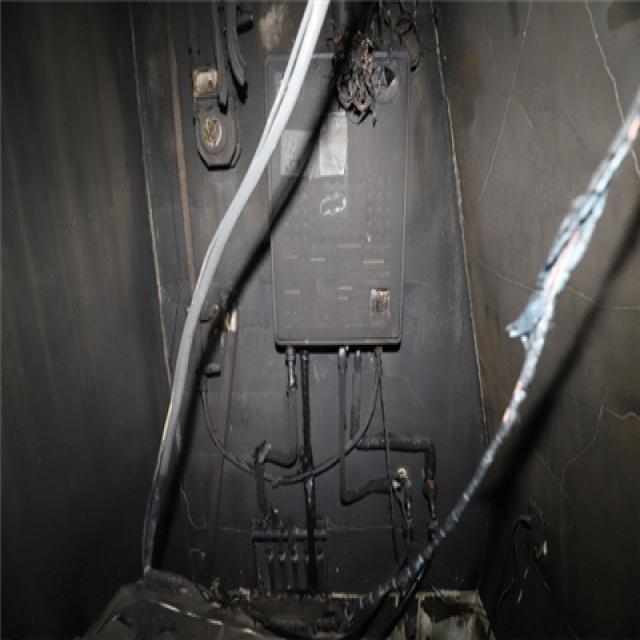Boiler: (248, 28, 428, 384)
